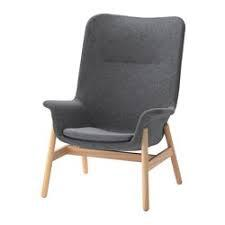chair: (37, 9, 194, 206)
